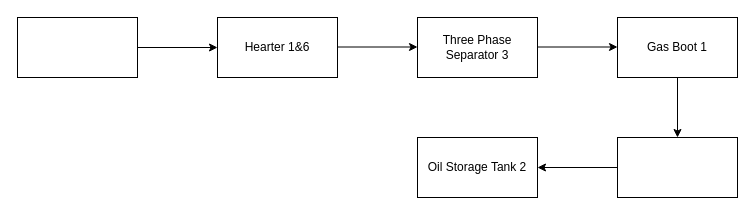
Image size: 755x215. Some labels were removed from this diagram. The box of each missing label's shape, as (x1, y1, x2, y2) in pixels:
Oil Sediementation Tank 2: (616, 136, 738, 198)
Ronier Manifold: (16, 16, 138, 78)
